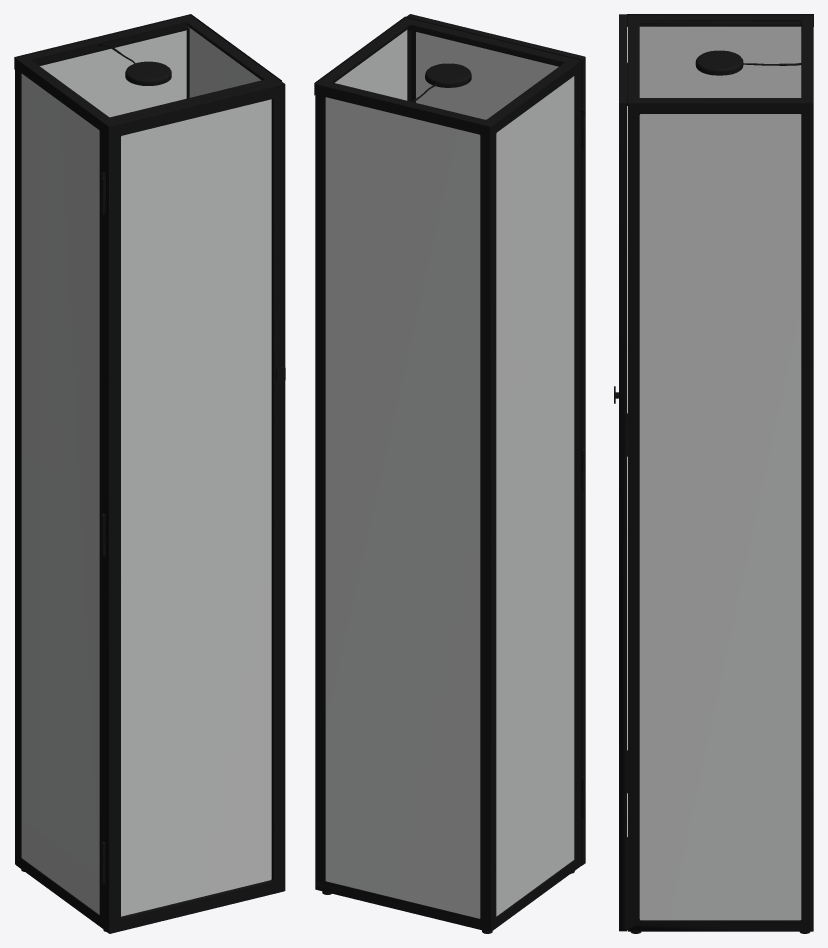
Rendered from blaliden_strimsav_szafka_drzwi_szklane_z_oswietl_89522925.glb.
3 renders of one model, left to right at view 1: azimuth 30°, elevation 25°; view 2: azimuth 150°, elevation 25°; view 3: azimuth 270°, elevation 25°, orthographic. The views are drawn at different scales.
Visible parts, largest first — view 1: blaliden_strimsav_szafka_drzwi_szklane_z_oswietl_89522925; view 2: blaliden_strimsav_szafka_drzwi_szklane_z_oswietl_89522925; view 3: blaliden_strimsav_szafka_drzwi_szklane_z_oswietl_89522925.
Boxes of the visible parts, x1,y1,x2,y2 form: blaliden_strimsav_szafka_drzwi_szklane_z_oswietl_89522925: (14,14,285,933); blaliden_strimsav_szafka_drzwi_szklane_z_oswietl_89522925: (314,14,585,933); blaliden_strimsav_szafka_drzwi_szklane_z_oswietl_89522925: (614,14,813,933).
Bounding box in the file's own units: 0.3512 × 1.51 × 0.3283.
2 materials, 1 textured.
